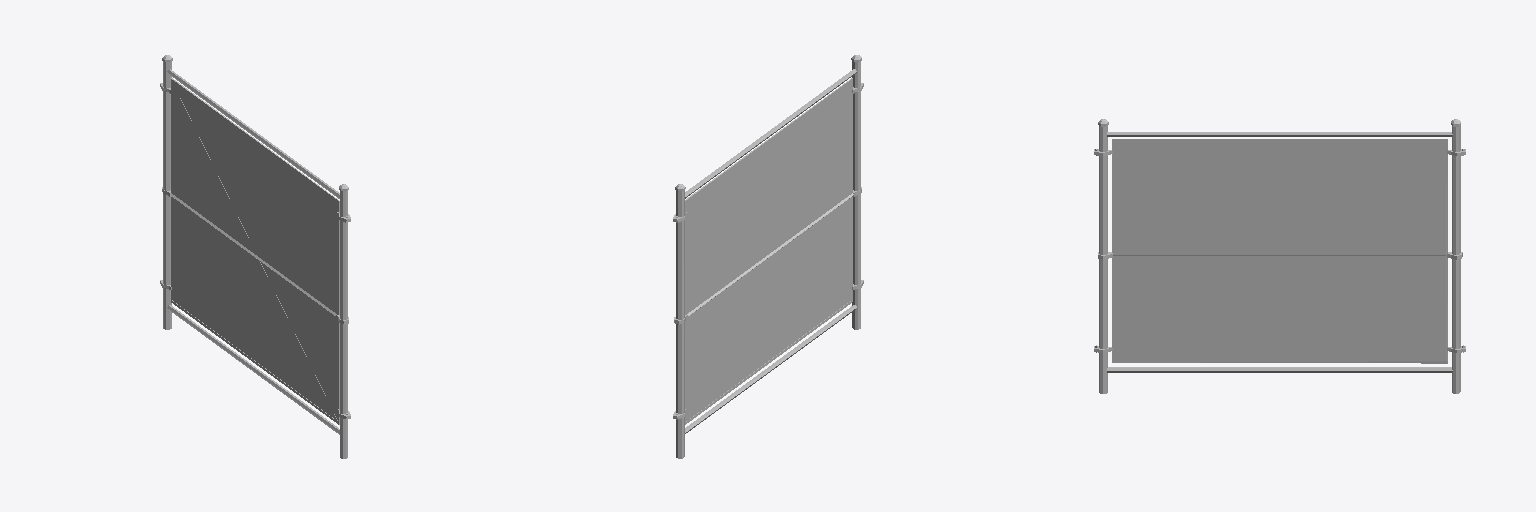
The model's file is Fence.obj.
The picture shows the model from 3 angles: view 1: azimuth 30°, elevation 25°; view 2: azimuth 150°, elevation 25°; view 3: azimuth 270°, elevation 25°; orthographic projection.
Visible parts, largest first — view 1: Body_fence01a_reference_smd_mesh_1, Body_fence01a_reference_smd_mesh_0; view 2: Body_fence01a_reference_smd_mesh_1, Body_fence01a_reference_smd_mesh_0; view 3: Body_fence01a_reference_smd_mesh_1, Body_fence01a_reference_smd_mesh_0.
Part boxes in pixels (x1,y1,x2,y2): Body_fence01a_reference_smd_mesh_1: (172,81,337,419); Body_fence01a_reference_smd_mesh_0: (160,55,350,458); Body_fence01a_reference_smd_mesh_1: (686,81,851,420); Body_fence01a_reference_smd_mesh_0: (673,55,863,458); Body_fence01a_reference_smd_mesh_1: (1113,141,1445,360); Body_fence01a_reference_smd_mesh_0: (1094,119,1465,393).
Size of the model in its own units: 4.43 by 109 by 135.